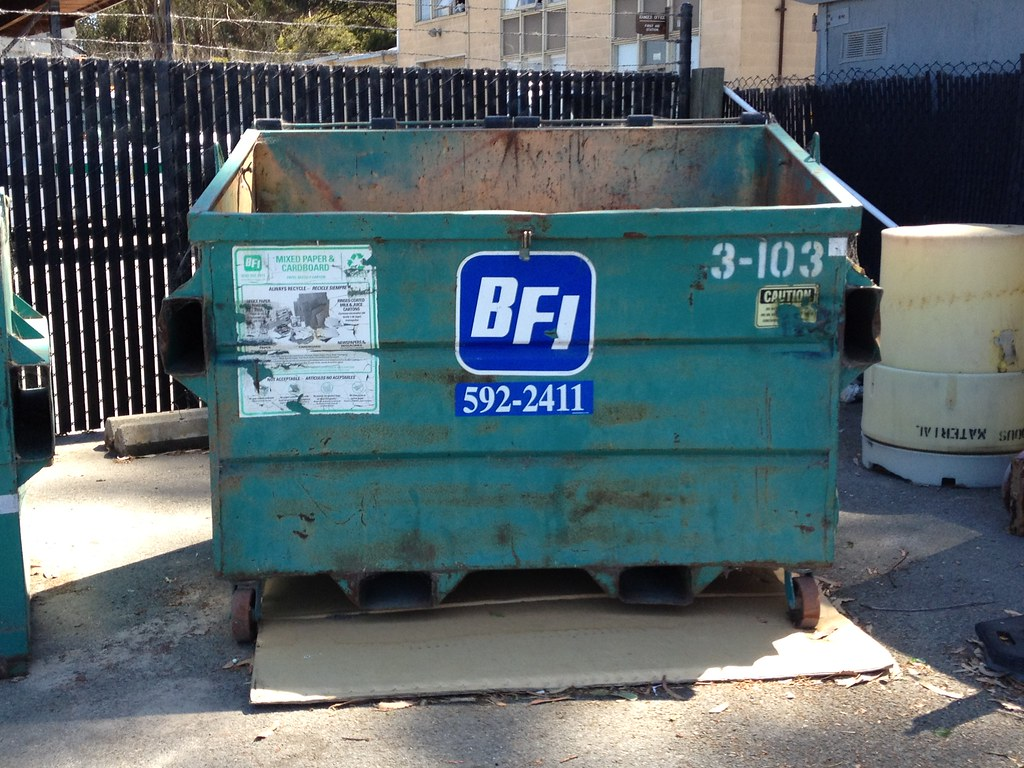Dumpster: (149, 103, 898, 653)
